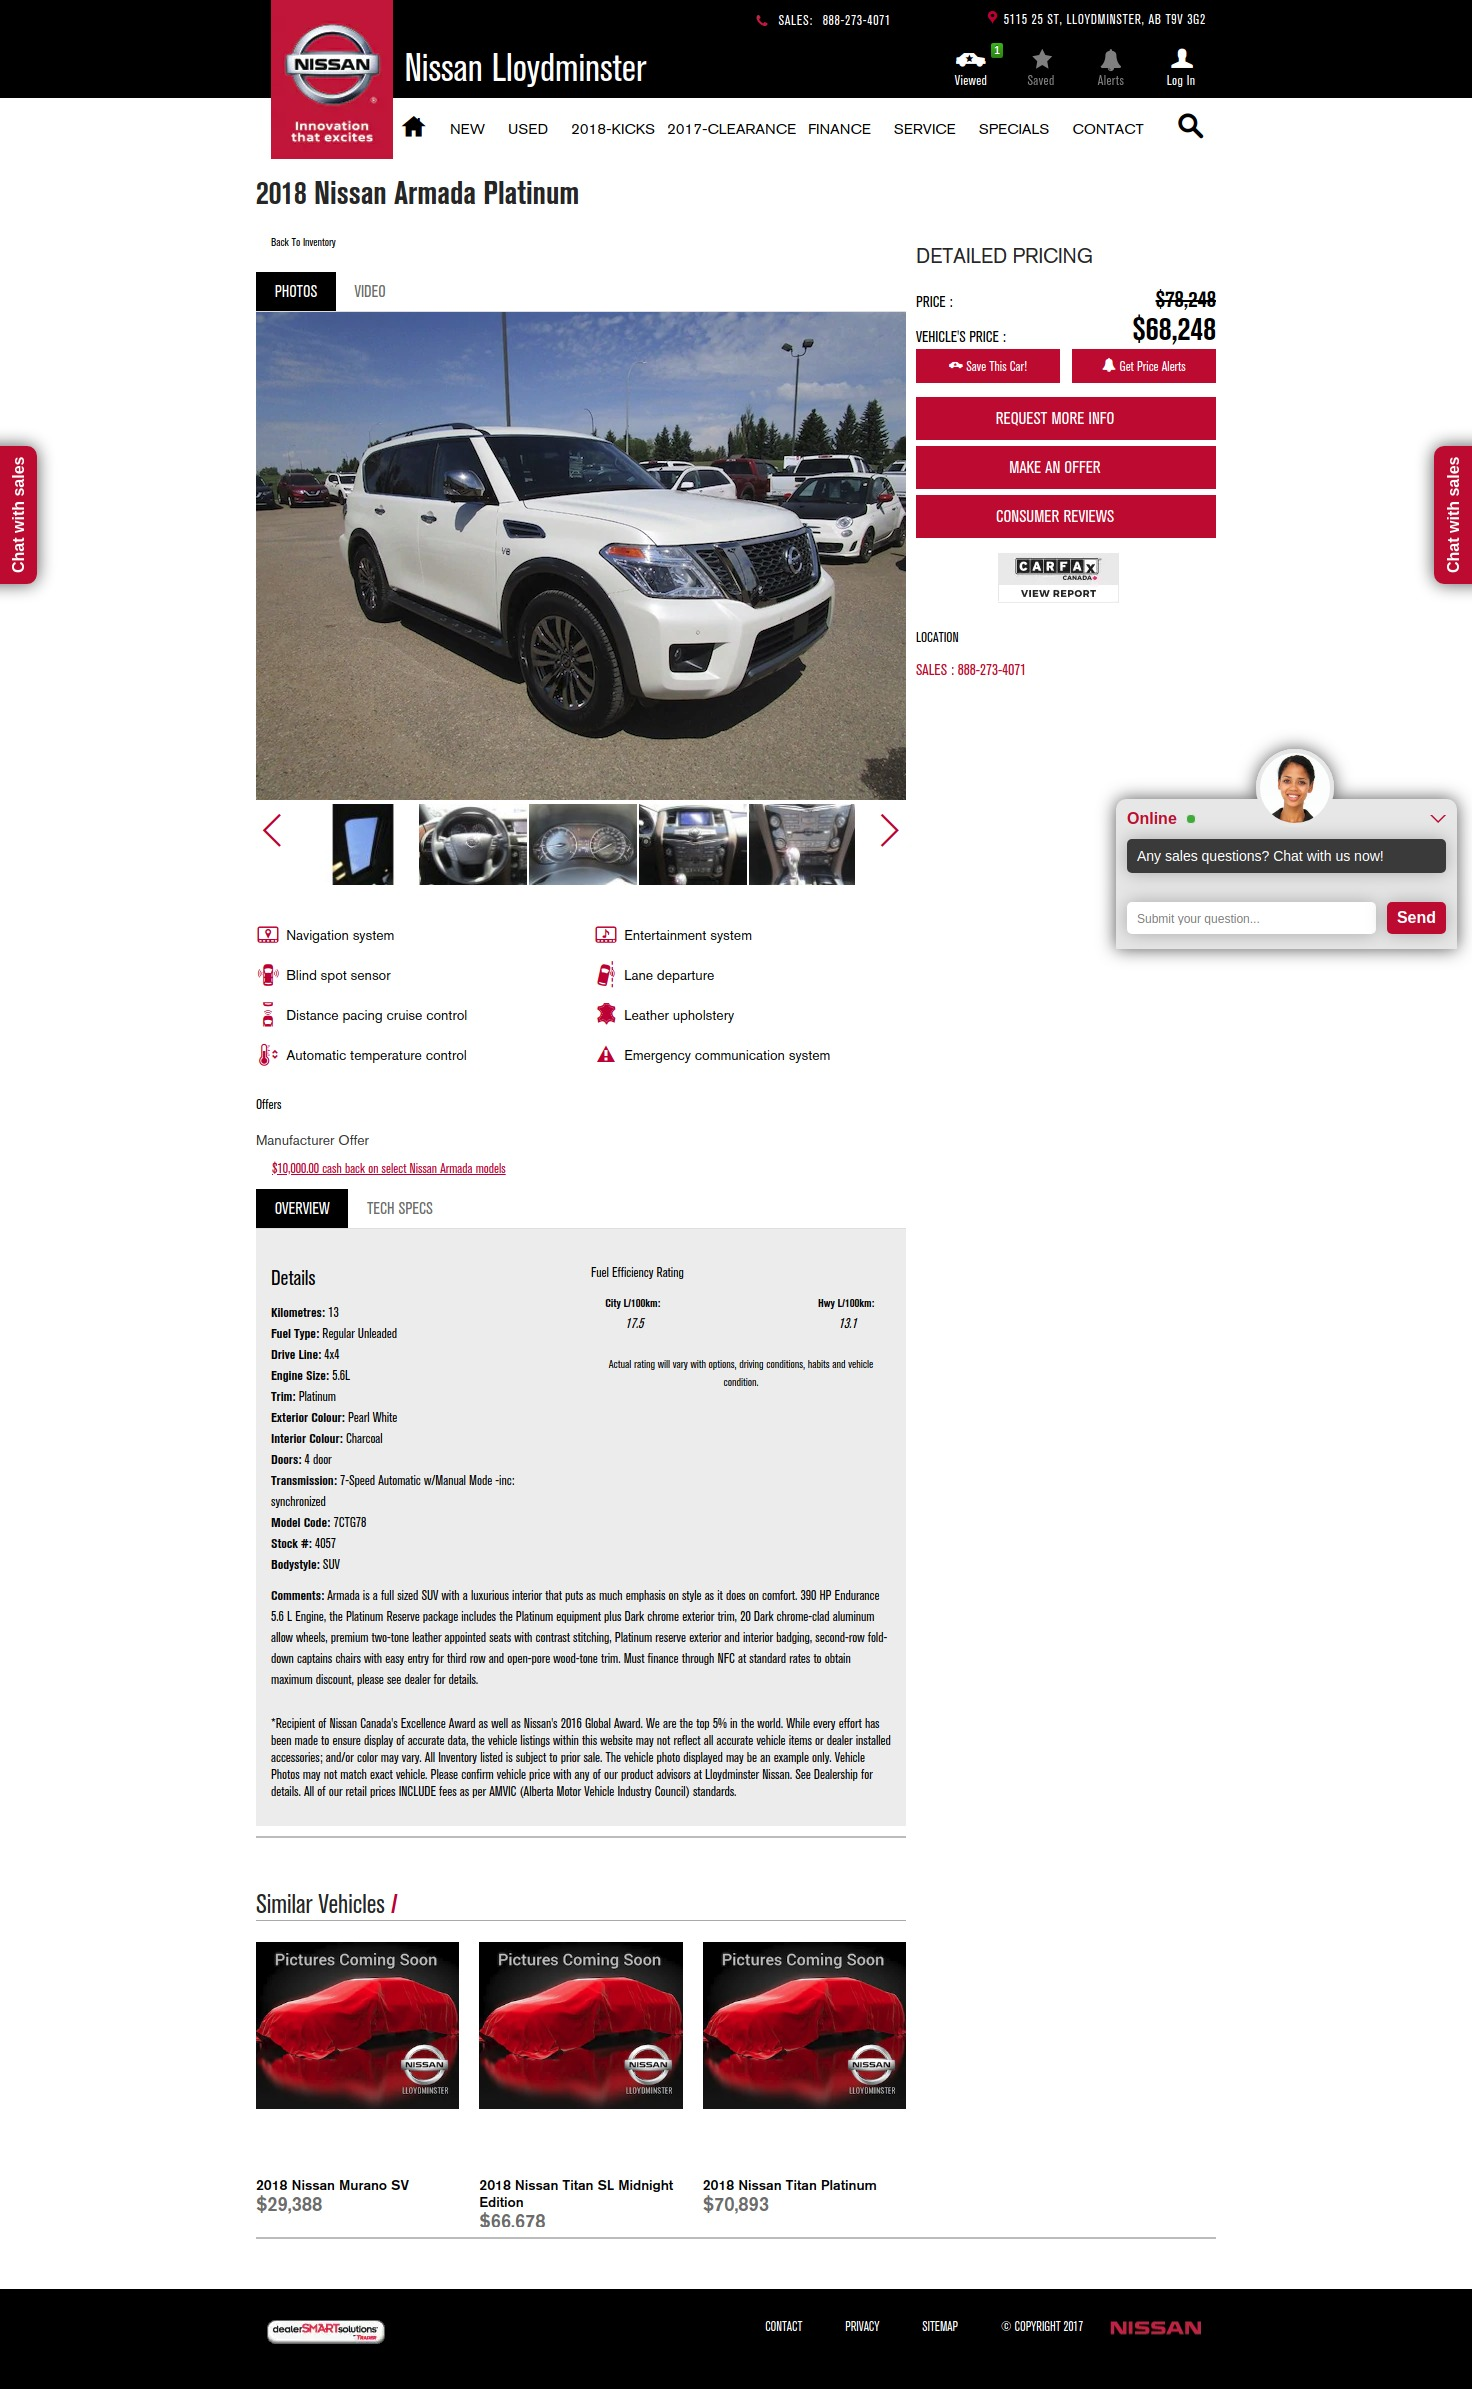car: (877, 812, 902, 850)
